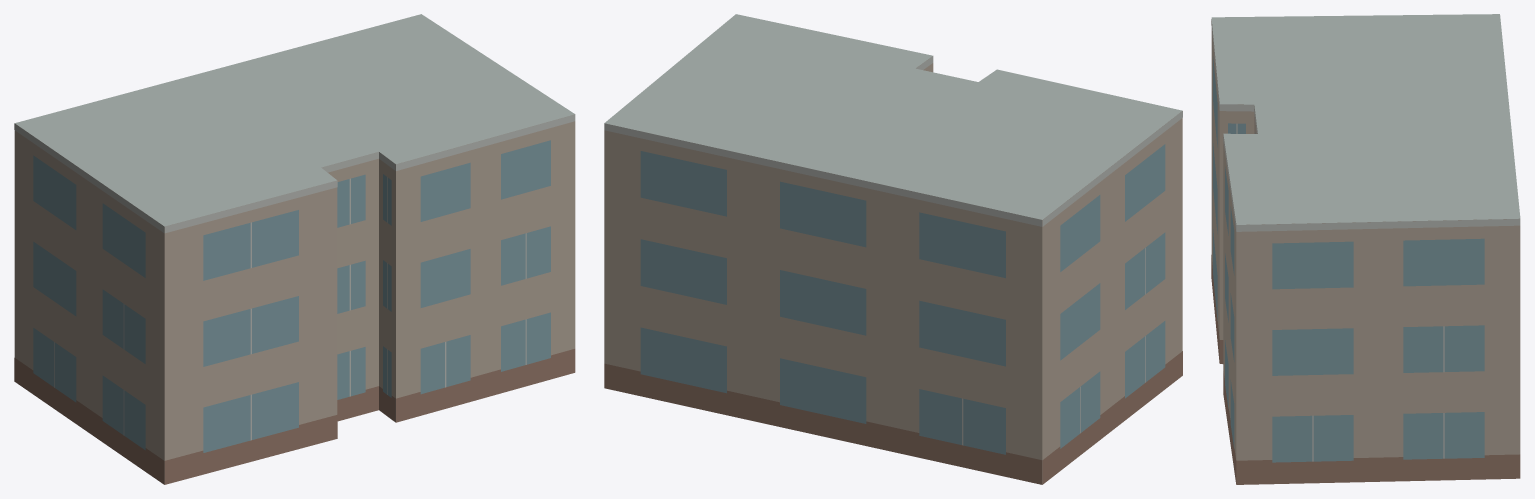
The model's file is survey-upis-32727687.glb.
3 renders of one model, left to right at view 1: azimuth 30°, elevation 25°; view 2: azimuth 150°, elevation 25°; view 3: azimuth 270°, elevation 25°, orthographic. The views are drawn at different scales.
Visible parts, largest first — view 1: survey-upis-32727687.tmp; view 2: survey-upis-32727687.tmp; view 3: survey-upis-32727687.tmp.
Boxes of the visible parts, <box> form: survey-upis-32727687.tmp: <box>14,14,575,484</box>; survey-upis-32727687.tmp: <box>604,14,1182,484</box>; survey-upis-32727687.tmp: <box>1211,14,1520,484</box>.
Size of the model in its own units: 15.94 by 9.15 by 9.87.
